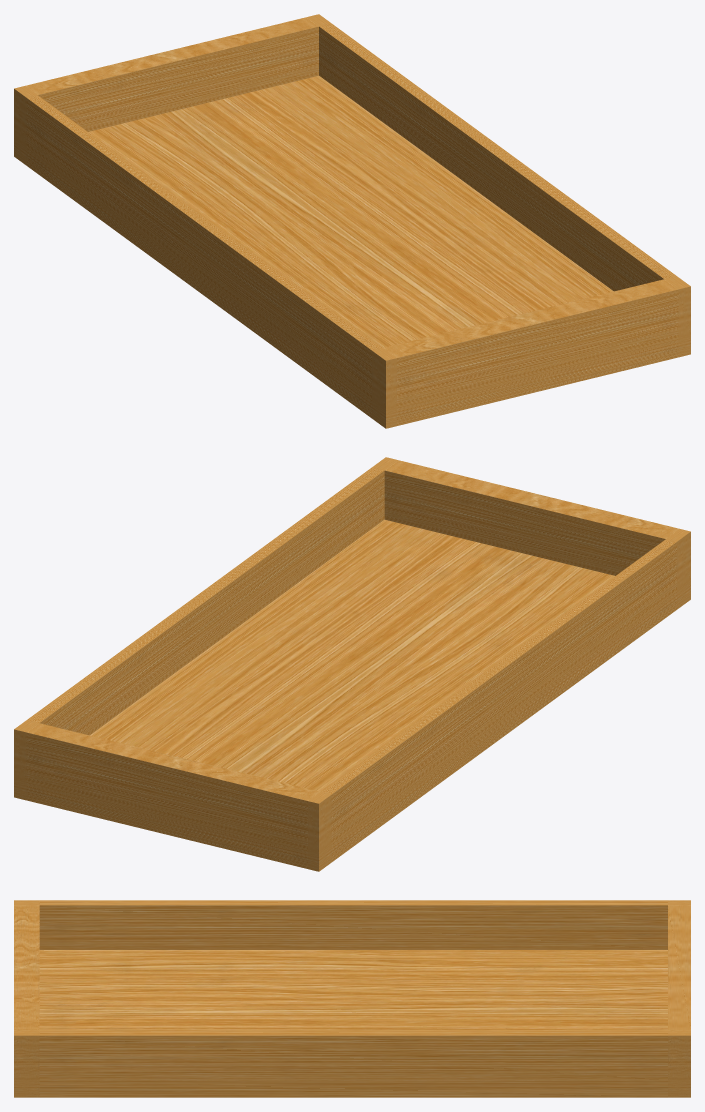
Rendered from PA8Board.obj.
3 renders of one model, top to bottom at view 1: azimuth 30°, elevation 25°; view 2: azimuth 150°, elevation 25°; view 3: azimuth 270°, elevation 25°, orthographic. The views are drawn at different scales.
Visible parts, largest first — view 1: Cube_Cube.001; view 2: Cube_Cube.001; view 3: Cube_Cube.001.
Part boxes in pixels (left/top/right/bottom): Cube_Cube.001: left=14, top=14, right=690, bottom=428; Cube_Cube.001: left=14, top=457, right=690, bottom=871; Cube_Cube.001: left=14, top=900, right=690, bottom=1097.
Bounding box in the file's own units: 2 × 0.4263 × 4.22.
